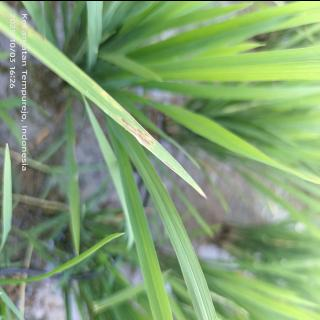Bercak-Cokelat-Sempit: (121, 117, 153, 147), (135, 126, 154, 143)
